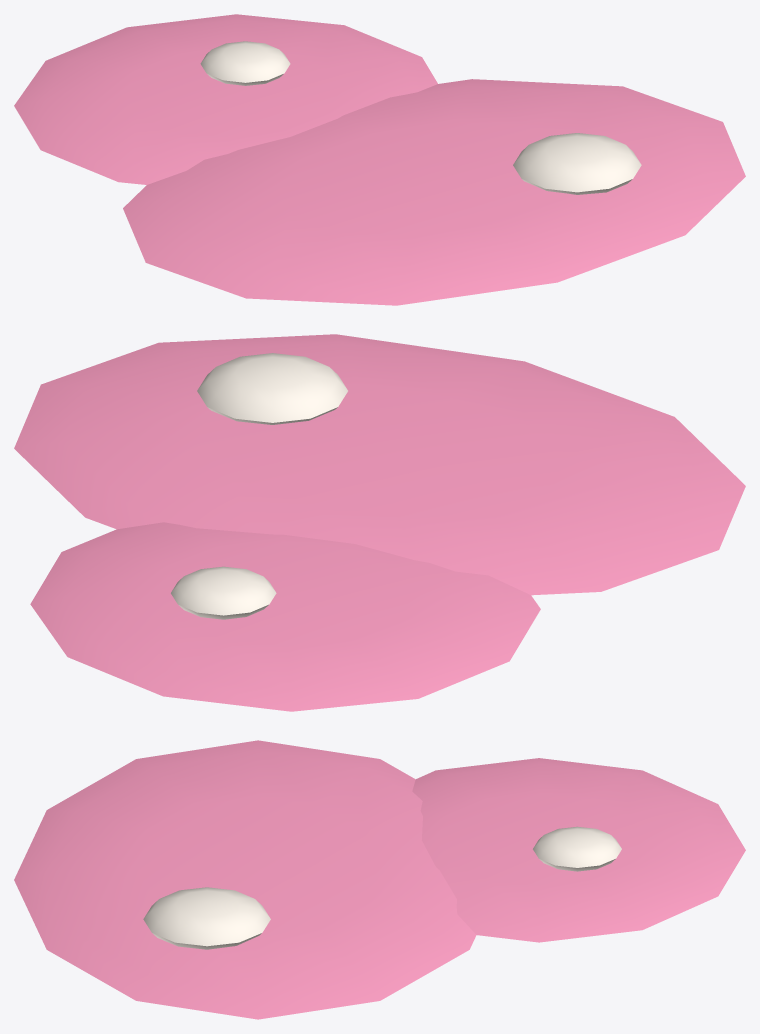
Rendered from butterfly_wing_rose.glb.
The picture shows the model from 3 angles, top to bottom: view 1: azimuth 30°, elevation 25°; view 2: azimuth 150°, elevation 25°; view 3: azimuth 270°, elevation 25°; orthographic projection. The views are drawn at different scales.
Visible parts, largest first — view 1: butterfly_wing_rose; view 2: butterfly_wing_rose; view 3: butterfly_wing_rose.
Part boxes in pixels (x1,y1,x2,y2): butterfly_wing_rose: (14, 14, 745, 305); butterfly_wing_rose: (14, 334, 745, 711); butterfly_wing_rose: (14, 740, 745, 1019).
Bounding box in the file's own units: 0.1035 × 0.0087 × 0.1147.
